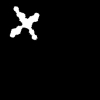single_crochet: (10, 7, 38, 39)
